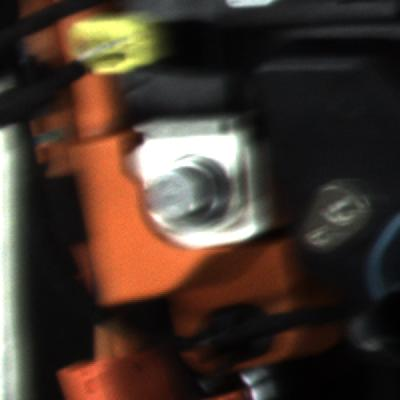nut_b: (141, 150, 236, 239)
